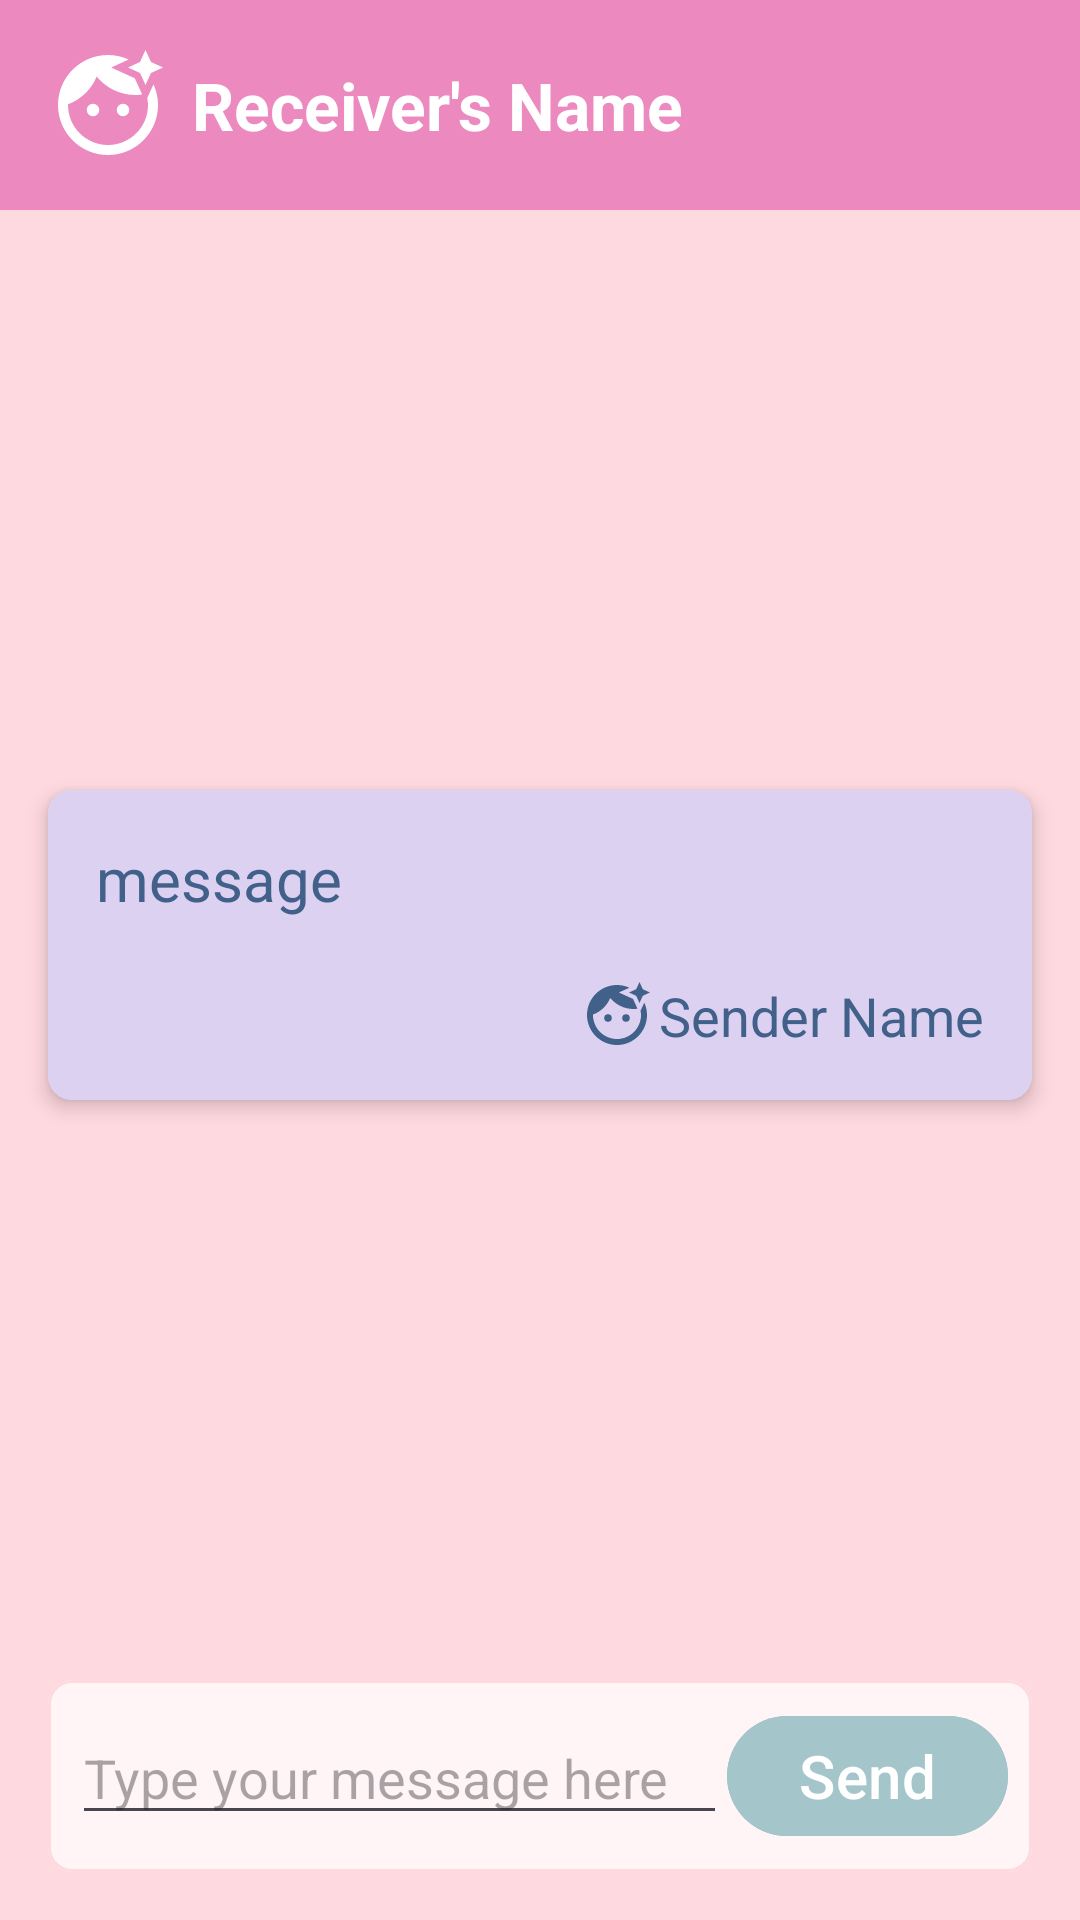

Locate icon controls on the screen. Image size 1080w x 1920h, boxes as (x1, y1, x2, y2).
receiver's user icon: (58, 50, 163, 155)
user: (587, 982, 650, 1045)
